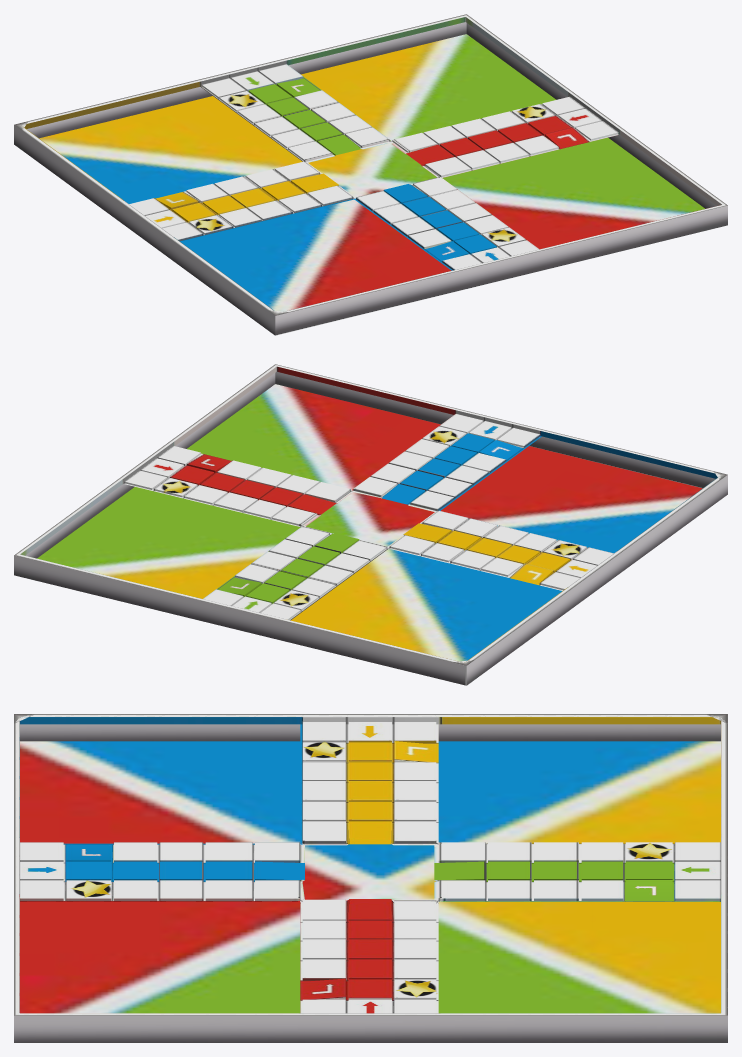
File: NormalBoard_ReducedBorders.FBX
3 renders of one model, top to bottom at view 1: azimuth 30°, elevation 25°; view 2: azimuth 150°, elevation 25°; view 3: azimuth 270°, elevation 25°, orthographic. The views are drawn at different scales.
Visible parts, largest first — view 1: Ludo_Board; view 2: Ludo_Board; view 3: Ludo_Board.
Boxes of the visible parts, left/top/right/bottom form: Ludo_Board: left=14, top=14, right=727, bottom=335; Ludo_Board: left=14, top=364, right=727, bottom=685; Ludo_Board: left=14, top=714, right=727, bottom=1042.
Bounding box in the file's own units: 28.87 × 1.21 × 28.87.
